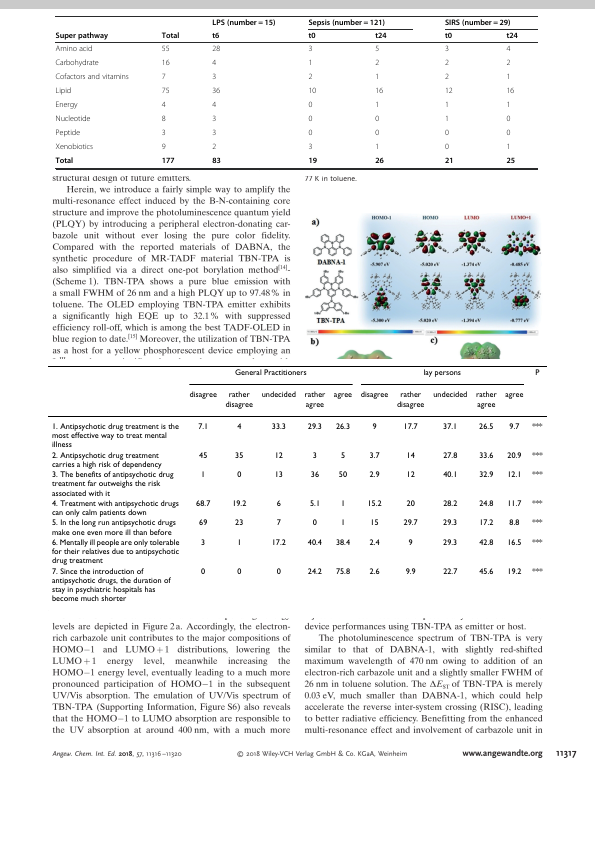borderless: (46, 364, 548, 612), (54, 14, 537, 168)
cell: (50, 567, 171, 604), (50, 538, 180, 566), (50, 422, 179, 450), (50, 470, 174, 499), (50, 518, 176, 538), (50, 499, 179, 518), (50, 451, 162, 470), (55, 72, 130, 82), (233, 368, 307, 378), (307, 18, 386, 27), (444, 18, 511, 27), (211, 18, 276, 27), (395, 391, 425, 410), (224, 391, 253, 410), (55, 31, 109, 41), (55, 58, 100, 68), (303, 391, 326, 410), (474, 391, 497, 410), (422, 368, 461, 378), (55, 142, 94, 152), (55, 44, 93, 54), (55, 114, 91, 124), (260, 391, 296, 400), (432, 391, 468, 400), (359, 391, 389, 400), (188, 391, 217, 400), (55, 128, 81, 138), (55, 100, 78, 110), (161, 31, 180, 41), (55, 156, 74, 166), (332, 391, 353, 400), (504, 391, 524, 400), (334, 538, 351, 548), (334, 567, 351, 577), (55, 86, 72, 96), (270, 422, 286, 432), (306, 422, 322, 432), (334, 422, 350, 432), (402, 422, 418, 432), (442, 422, 458, 432), (478, 422, 494, 432), (442, 451, 458, 461), (478, 451, 494, 461), (506, 451, 522, 461), (442, 470, 458, 480), (478, 470, 494, 480), (506, 470, 522, 480), (195, 499, 211, 509), (231, 499, 247, 509), (366, 499, 382, 509), (442, 499, 458, 509), (478, 499, 494, 509), (506, 499, 522, 509), (402, 518, 418, 528), (442, 518, 458, 528), (478, 518, 494, 528), (270, 538, 286, 548), (306, 538, 322, 548), (442, 538, 458, 548), (478, 538, 494, 548), (506, 538, 522, 548), (306, 567, 322, 577), (442, 567, 458, 577), (478, 567, 494, 577), (506, 567, 522, 577), (374, 31, 388, 41), (505, 31, 519, 41), (161, 156, 175, 166), (197, 422, 209, 432), (508, 422, 520, 432), (531, 422, 543, 432), (368, 451, 380, 461), (531, 451, 543, 461), (368, 470, 380, 480), (531, 470, 543, 480), (308, 499, 320, 509), (531, 499, 543, 509), (508, 518, 520, 528), (531, 518, 543, 528), (368, 538, 380, 548), (531, 538, 543, 548), (368, 567, 380, 577), (404, 567, 416, 577), (531, 567, 543, 577), (309, 470, 320, 480), (337, 470, 348, 480), (211, 156, 222, 166), (307, 156, 318, 166), (374, 156, 385, 166), (505, 156, 516, 166), (198, 451, 208, 461), (234, 451, 244, 461), (273, 451, 283, 461), (405, 451, 415, 461), (273, 470, 283, 480), (405, 470, 415, 480), (405, 499, 415, 509), (198, 518, 208, 528), (234, 518, 244, 528), (369, 518, 379, 528), (211, 44, 221, 54), (211, 86, 221, 96), (307, 86, 317, 96), (374, 86, 384, 96), (444, 86, 454, 96), (505, 86, 515, 96), (444, 156, 454, 166), (211, 31, 220, 41), (307, 31, 316, 41), (444, 31, 453, 41), (161, 44, 170, 54), (161, 58, 170, 68), (161, 86, 170, 96), (339, 451, 346, 461), (339, 499, 346, 509), (339, 518, 346, 528), (534, 368, 540, 378), (236, 422, 242, 432), (371, 422, 377, 432), (311, 451, 317, 461), (200, 470, 206, 480), (236, 470, 242, 480), (275, 499, 281, 509), (275, 518, 281, 528), (311, 518, 317, 528), (200, 538, 206, 548), (236, 538, 242, 548), (407, 538, 413, 548), (200, 567, 206, 577), (236, 567, 242, 577), (275, 567, 281, 577), (307, 44, 313, 54), (374, 44, 380, 54), (444, 44, 450, 54), (505, 44, 511, 54), (211, 58, 217, 68), (307, 58, 313, 68), (374, 58, 380, 68), (444, 58, 450, 68), (505, 58, 511, 68), (161, 72, 167, 82), (211, 72, 217, 82), (307, 72, 313, 82), (374, 72, 380, 82), (444, 72, 450, 82), (505, 72, 511, 82), (161, 100, 167, 110), (211, 100, 217, 110), (307, 100, 313, 110), (374, 100, 380, 110), (444, 100, 450, 110), (505, 100, 511, 110), (161, 114, 167, 124), (211, 114, 217, 124), (307, 114, 313, 124), (374, 114, 380, 124), (444, 114, 450, 124), (505, 114, 511, 124), (161, 128, 167, 138), (211, 128, 217, 138), (307, 128, 313, 138), (374, 128, 380, 138), (444, 128, 450, 138), (505, 128, 511, 138), (161, 142, 167, 152), (211, 142, 217, 152), (307, 142, 313, 152), (374, 142, 380, 152), (444, 142, 450, 152), (505, 142, 511, 152)
